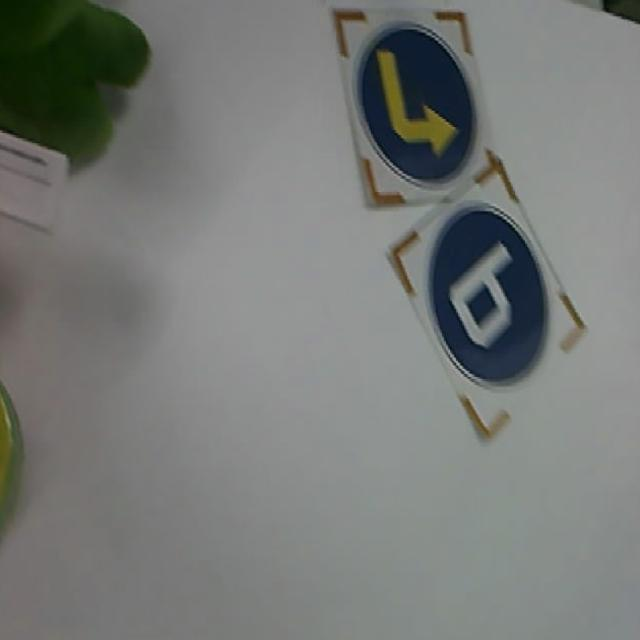parking: (414, 200, 575, 426)
turn: (318, 10, 510, 191)
